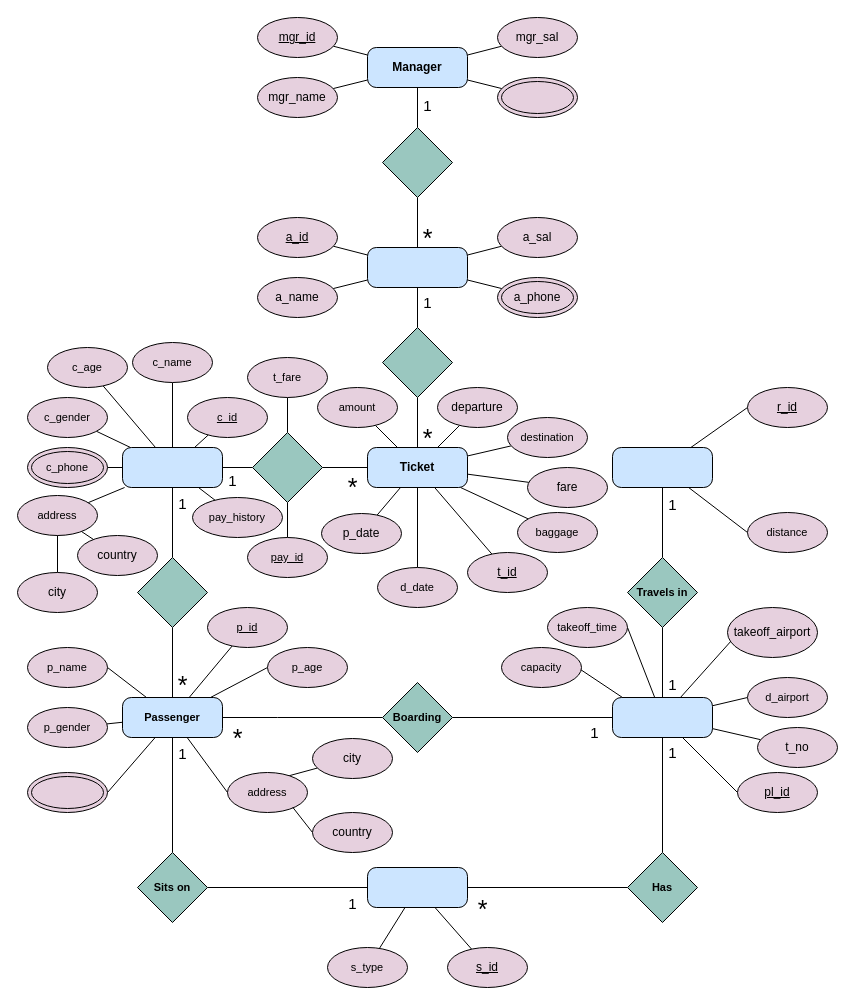
Some shapes in this 855 by 1005 pixel diagram are drawn without their labels. Here are the shapes that lost their labels. From the top down, the box of each, then its label:
(496, 76, 578, 118): mgr_phone
(382, 126, 452, 198): Manages
(366, 246, 468, 288): Agent
(382, 326, 452, 398): Sell
(122, 446, 222, 488): Customer
(252, 432, 322, 502): Purchase
(612, 446, 712, 488): Route
(136, 556, 208, 628): Buy as/for
(612, 696, 712, 738): Plane
(26, 772, 108, 812): p_phone
(366, 866, 468, 908): Seat
